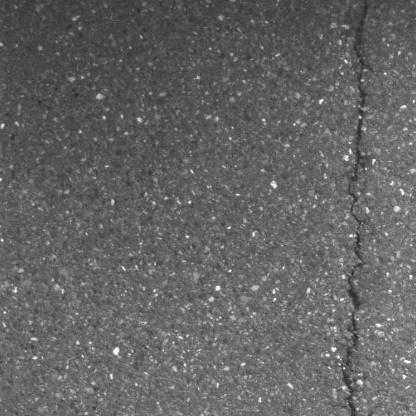Cracks: (337, 0, 375, 416)
